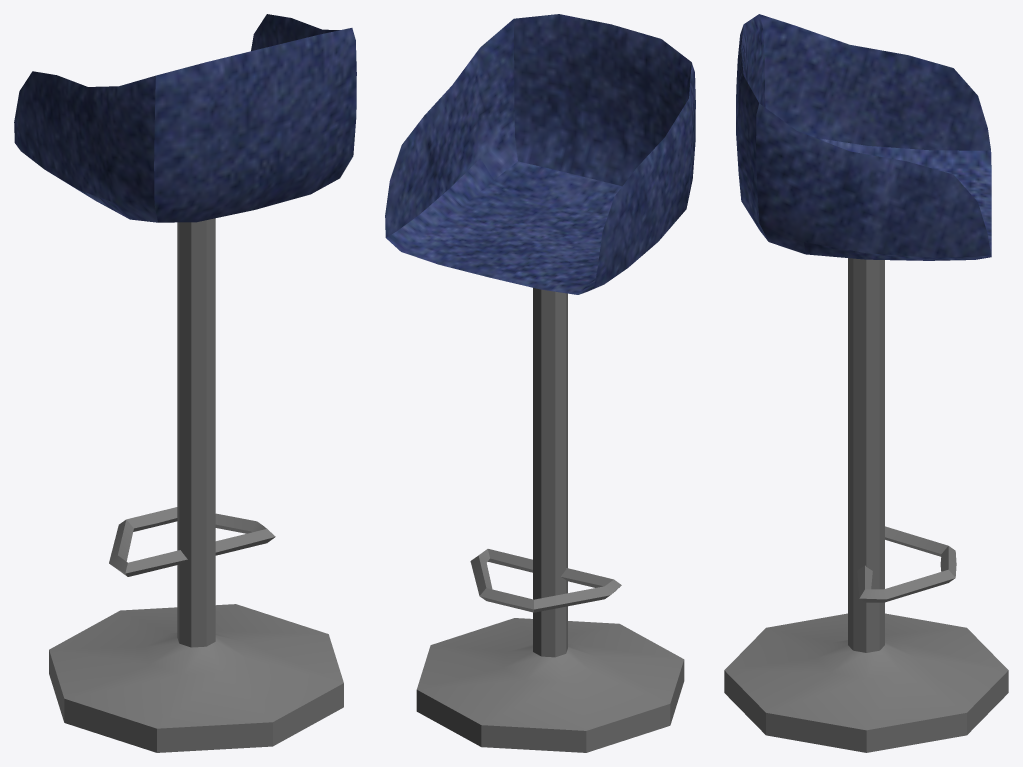
Rendered from BarStool.fbx.
3 renders of one model, left to right at view 1: azimuth 30°, elevation 25°; view 2: azimuth 150°, elevation 25°; view 3: azimuth 270°, elevation 25°, orthographic. The views are drawn at different scales.
Visible parts, largest first — view 1: Circle.003; view 2: Circle.003; view 3: Circle.003.
Part boxes in pixels (bbox=[...]): Circle.003: bbox=[14, 14, 356, 752]; Circle.003: bbox=[385, 14, 695, 752]; Circle.003: bbox=[724, 14, 1008, 752].
Bounding box in the file's own units: 40 × 100 × 40.
Materials: 2 (1 with a texture image).
